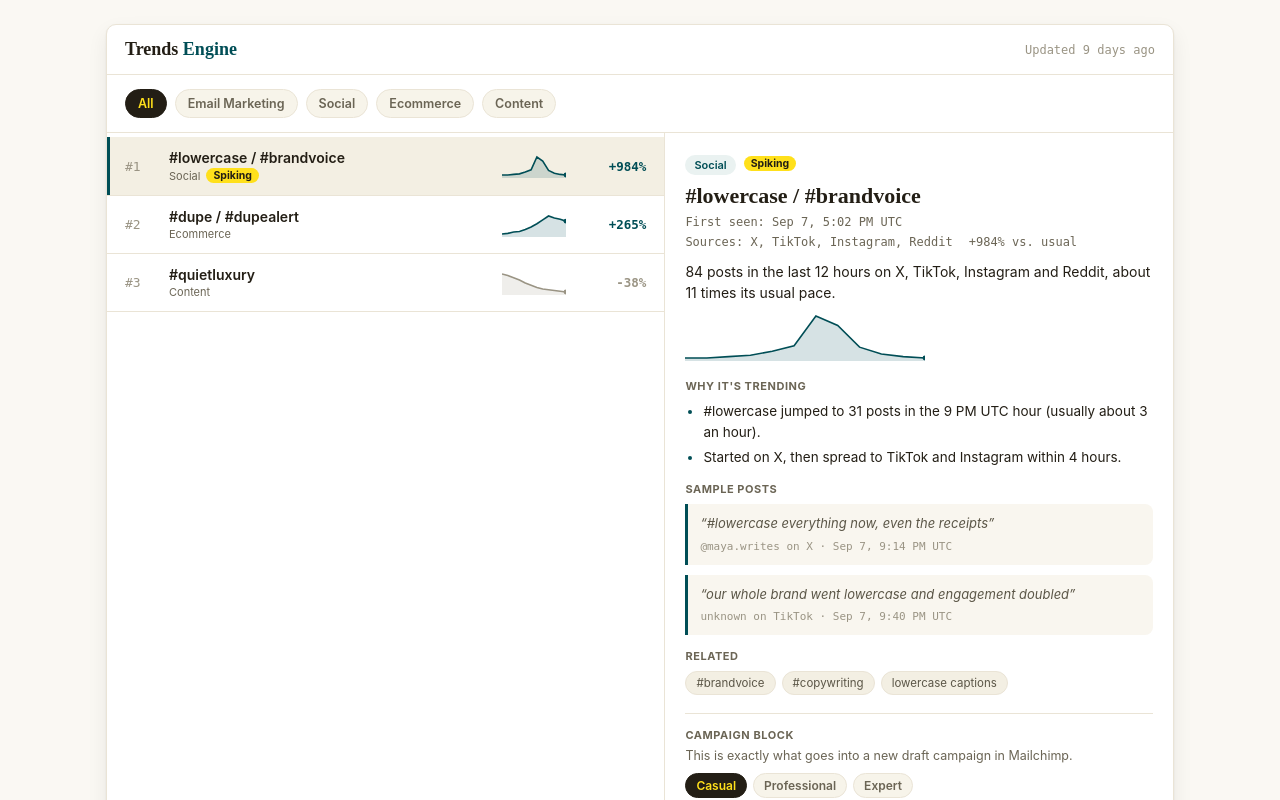
a category chip asks te-api for that category
Click the button "Ecommerce": point(425, 104) [376,89,474,118]
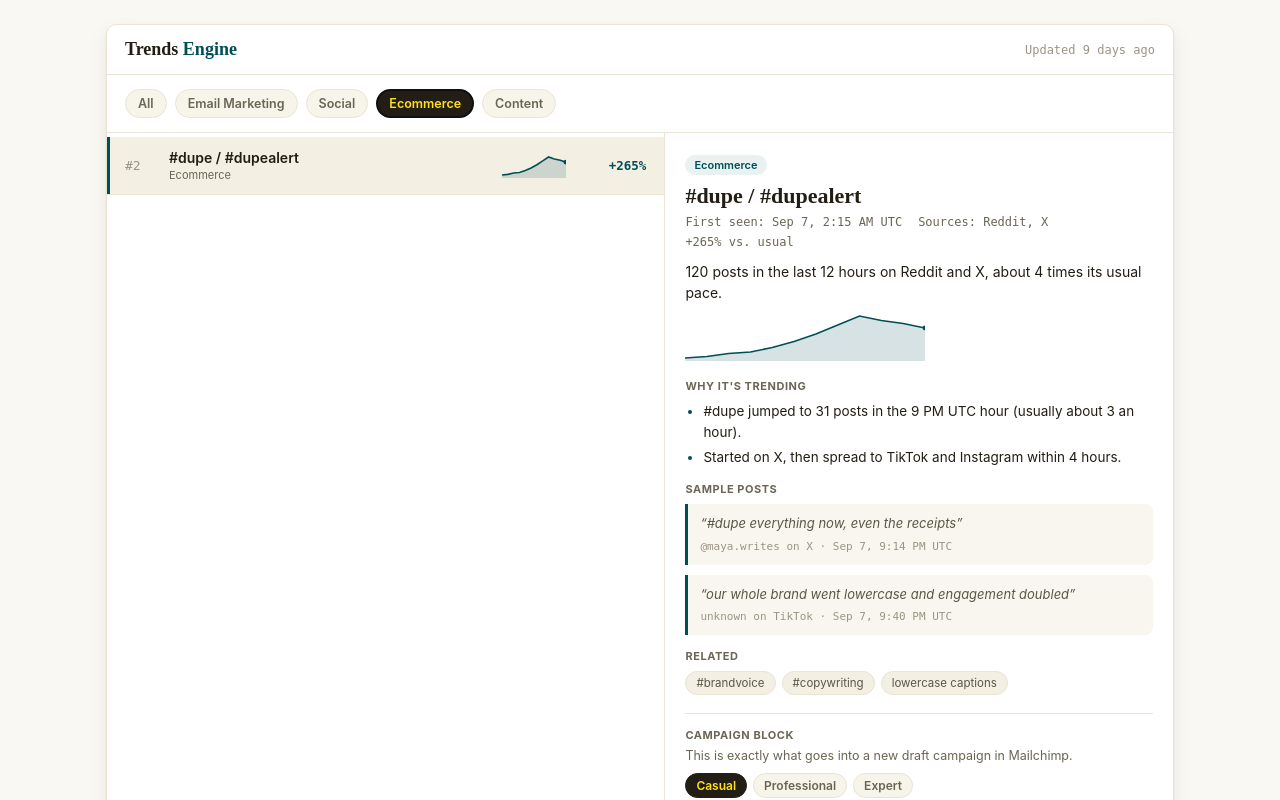
Expected: the heading "#dupe / #dupealert" is shown, [685,183,861,208]
